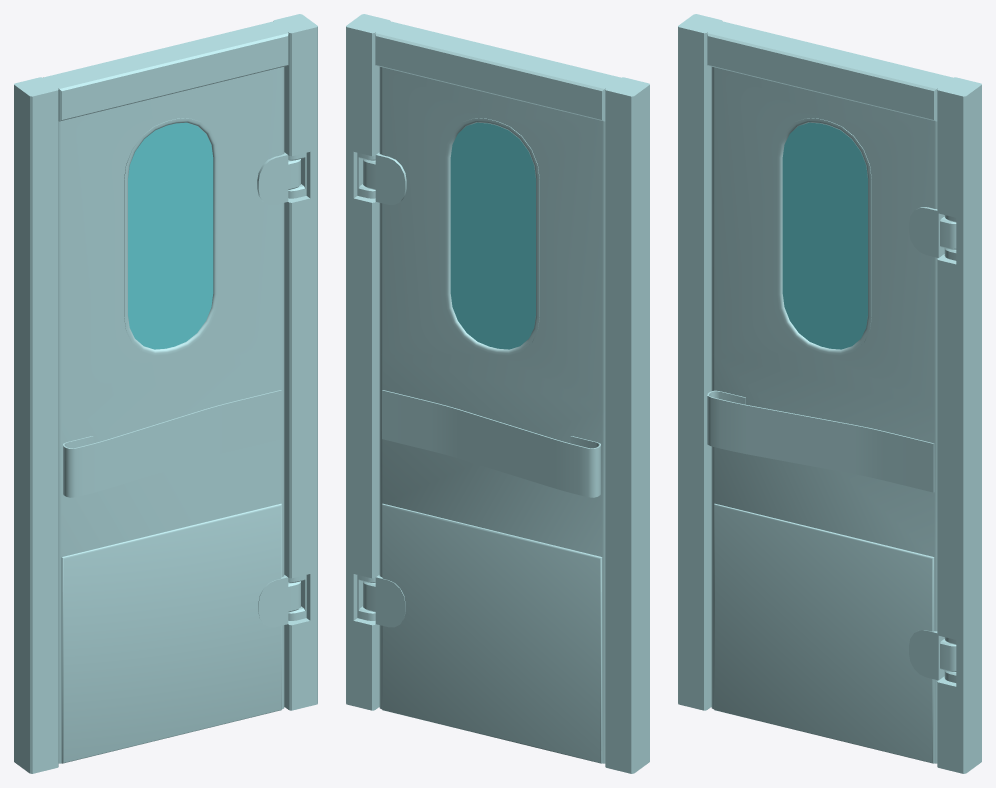
Rendered from kitchen_interior_door_Frame_1.fbx.
3 renders of one model, left to right at view 1: azimuth 30°, elevation 25°; view 2: azimuth 150°, elevation 25°; view 3: azimuth 330°, elevation 25°, orthographic.
Visible parts, largest first — view 1: kitchen_interior_door, kitchen_interior_door_Frame_1, kitchen_interior_door_glass; view 2: kitchen_interior_door, kitchen_interior_door_Frame_1, kitchen_interior_door_glass; view 3: kitchen_interior_door, kitchen_interior_door_Frame_1, kitchen_interior_door_glass.
Boxes of the visible parts, left/top/right/bottom form: kitchen_interior_door: left=58, top=67, right=300, bottom=763; kitchen_interior_door_Frame_1: left=14, top=14, right=317, bottom=773; kitchen_interior_door_glass: left=128, top=122, right=213, bottom=349; kitchen_interior_door: left=363, top=67, right=605, bottom=763; kitchen_interior_door_Frame_1: left=346, top=14, right=649, bottom=773; kitchen_interior_door_glass: left=450, top=122, right=535, bottom=349; kitchen_interior_door: left=707, top=67, right=956, bottom=763; kitchen_interior_door_Frame_1: left=678, top=14, right=981, bottom=773; kitchen_interior_door_glass: left=782, top=122, right=867, bottom=349.
Size of the model in its own units: 92.98 by 209 by 15.96.
